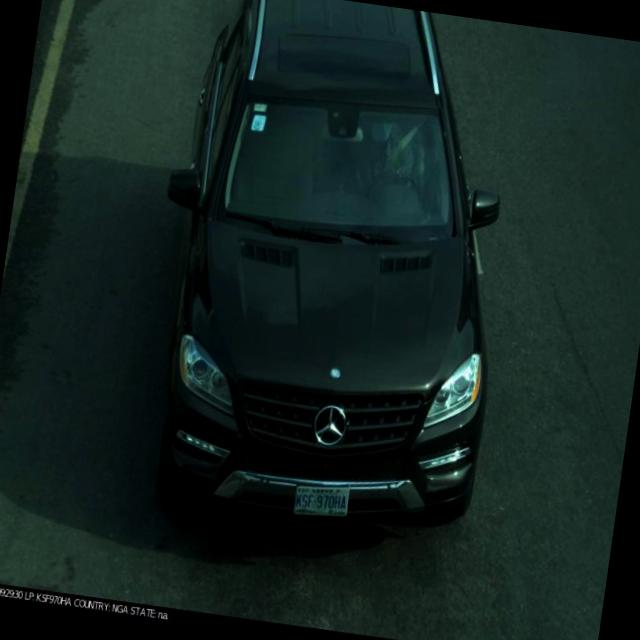person_with_seatbelt: (339, 98, 448, 231)
